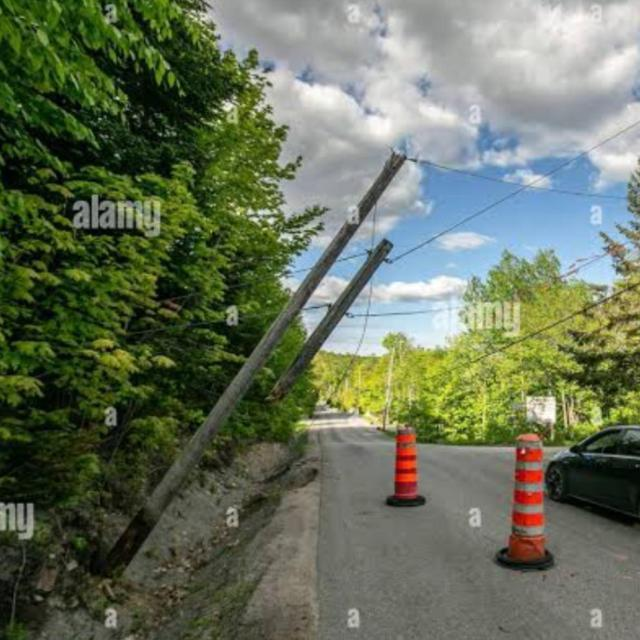light_pole: (100, 151, 413, 579), (264, 239, 398, 402)
